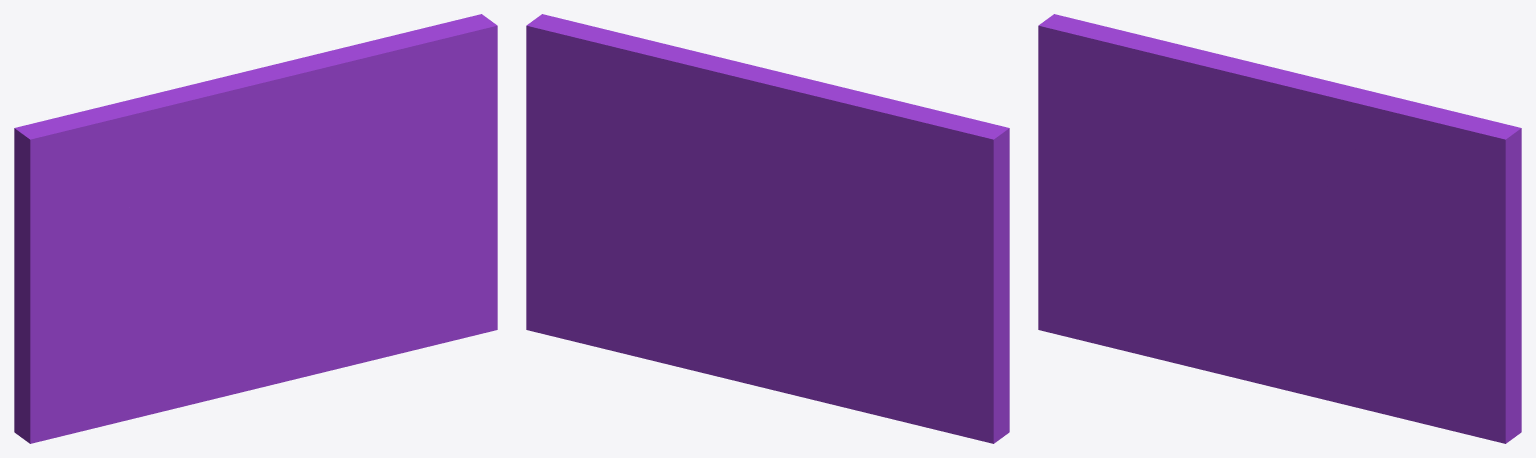
The model's file is Barrier_74_chunks.fbx.
3 renders of one model, left to right at view 1: azimuth 30°, elevation 25°; view 2: azimuth 150°, elevation 25°; view 3: azimuth 330°, elevation 25°, orthographic.
Parts seen in each view (by area): view 1: Barrier_74_0, Barrier_74_1, Barrier_74_3, Barrier_74_2, Barrier_74_6, Barrier_74_4, Barrier_74_5; view 2: Barrier_74_0, Barrier_74_1, Barrier_74_3, Barrier_74_6, Barrier_74_4, Barrier_74_2; view 3: Barrier_74_0, Barrier_74_1, Barrier_74_3, Barrier_74_2, Barrier_74_6, Barrier_74_4, Barrier_74_5.
Part boxes in pixels (x1,y1,x2,y2): Barrier_74_0: (270, 14, 497, 373); Barrier_74_1: (14, 231, 319, 443); Barrier_74_3: (14, 89, 193, 242); Barrier_74_2: (183, 52, 378, 245); Barrier_74_6: (173, 45, 357, 165); Barrier_74_4: (87, 187, 204, 236); Barrier_74_5: (160, 132, 221, 195); Barrier_74_0: (526, 14, 758, 373); Barrier_74_1: (708, 228, 1009, 443); Barrier_74_3: (835, 88, 1009, 253); Barrier_74_6: (653, 52, 845, 217); Barrier_74_4: (745, 167, 966, 252); Barrier_74_2: (661, 43, 765, 68); Barrier_74_0: (1278, 97, 1521, 443); Barrier_74_1: (1038, 126, 1326, 400); Barrier_74_3: (1038, 14, 1211, 149); Barrier_74_2: (1191, 84, 1386, 248); Barrier_74_6: (1198, 52, 1394, 145); Barrier_74_4: (1095, 136, 1212, 192); Barrier_74_5: (1168, 96, 1229, 166).
Size of the model in its own units: 462 by 288 by 27.2.
